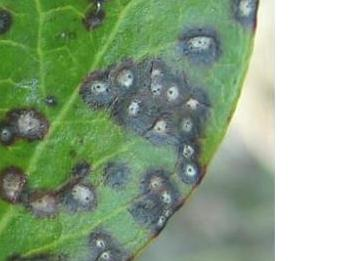Tomato Septoria leaf spot: (0, 0, 264, 261)
